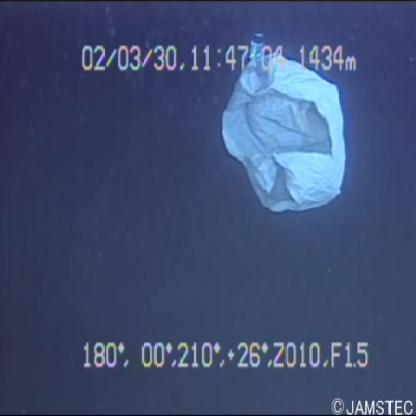Rác: (213, 32, 351, 231)
